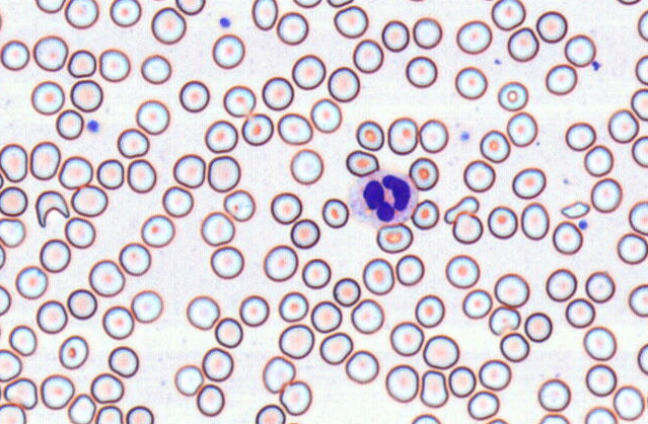GRAN: (347, 170, 415, 225)
PLT: (217, 16, 232, 29), (87, 118, 99, 133), (458, 130, 470, 144), (578, 220, 590, 231)
RBC: (88, 259, 125, 297), (151, 6, 186, 44), (278, 323, 314, 359), (263, 244, 298, 281), (422, 334, 459, 369), (456, 19, 492, 54), (32, 35, 67, 71), (262, 355, 295, 393), (385, 364, 418, 402), (389, 321, 424, 356), (494, 272, 529, 307), (350, 298, 384, 334), (40, 373, 74, 409), (211, 33, 245, 69), (289, 148, 323, 184), (207, 155, 240, 192), (70, 184, 107, 217), (362, 257, 394, 295), (29, 141, 60, 180), (58, 155, 93, 189), (200, 211, 234, 246), (209, 245, 244, 279), (291, 54, 325, 89), (445, 254, 480, 288), (30, 80, 64, 115), (135, 99, 169, 134), (279, 380, 312, 416), (327, 66, 360, 102), (387, 116, 418, 154), (345, 349, 379, 383), (204, 119, 238, 153), (582, 326, 616, 360), (186, 295, 219, 330), (172, 153, 205, 188), (333, 5, 368, 38), (277, 112, 312, 145), (507, 26, 539, 62), (612, 384, 644, 420), (310, 97, 342, 133), (590, 177, 622, 213), (15, 265, 48, 299), (319, 331, 353, 364), (101, 305, 134, 339), (118, 242, 151, 276), (140, 214, 174, 247), (130, 289, 163, 323), (69, 79, 103, 112), (261, 76, 294, 110), (545, 267, 577, 302), (607, 108, 639, 143), (511, 167, 546, 199), (376, 222, 412, 253), (506, 111, 537, 147), (419, 369, 448, 407), (520, 202, 549, 240), (223, 84, 256, 117), (454, 66, 487, 99), (537, 378, 570, 411), (3, 377, 37, 409), (201, 347, 233, 381), (276, 11, 308, 45), (98, 48, 130, 82), (564, 33, 596, 67), (352, 38, 383, 73), (451, 211, 483, 244), (310, 300, 342, 333), (463, 159, 495, 192), (478, 358, 511, 390), (270, 191, 302, 224), (241, 112, 273, 145), (405, 55, 437, 88), (535, 10, 567, 43), (90, 372, 124, 403), (39, 238, 70, 272), (36, 299, 67, 333), (552, 220, 583, 254), (479, 129, 510, 163), (0, 143, 27, 182), (126, 158, 156, 193), (418, 118, 448, 153), (223, 189, 255, 221), (545, 63, 577, 95), (585, 363, 616, 396), (178, 79, 209, 112), (491, 0, 525, 30), (408, 156, 438, 190), (487, 205, 517, 239), (58, 335, 88, 369), (64, 216, 95, 248), (162, 185, 193, 217), (238, 294, 269, 326), (107, 345, 138, 377), (117, 127, 149, 158), (616, 232, 647, 264), (585, 270, 615, 303), (414, 294, 444, 327), (412, 16, 442, 49), (66, 288, 97, 319), (497, 80, 528, 111), (467, 390, 499, 420), (564, 121, 596, 151), (583, 144, 613, 176), (395, 253, 424, 286), (64, 0, 98, 28), (290, 218, 320, 249), (301, 258, 331, 289), (462, 288, 492, 319), (278, 291, 308, 322), (565, 297, 595, 328), (140, 54, 171, 84), (214, 316, 243, 348), (174, 364, 203, 396), (8, 324, 37, 356), (355, 119, 384, 151), (345, 149, 378, 177), (196, 383, 224, 416), (381, 19, 409, 52), (499, 332, 529, 362), (0, 39, 29, 70), (448, 365, 476, 397), (67, 393, 96, 423), (524, 311, 552, 342), (96, 158, 124, 189), (55, 108, 83, 139), (321, 197, 349, 228), (109, 0, 141, 27), (411, 199, 439, 229), (0, 185, 27, 216), (332, 277, 360, 306), (67, 49, 96, 77), (251, 0, 278, 30), (0, 217, 25, 247), (0, 348, 22, 381), (628, 200, 647, 235), (628, 283, 647, 317), (254, 403, 285, 423), (630, 87, 647, 121), (584, 406, 617, 423), (0, 402, 26, 423), (125, 405, 154, 423), (631, 135, 647, 167), (95, 405, 123, 423), (175, 0, 205, 15), (35, 0, 65, 13), (635, 54, 647, 85), (0, 285, 11, 315), (637, 9, 647, 41), (637, 343, 647, 374), (538, 413, 569, 423), (410, 413, 440, 423), (292, 0, 321, 8), (326, 0, 353, 7), (0, 244, 6, 269), (485, 417, 508, 423), (616, 0, 641, 5), (0, 4, 3, 32), (0, 172, 4, 189), (405, 0, 428, 2)
Schistocyte: (32, 190, 73, 228), (442, 195, 480, 224), (560, 201, 591, 219)
